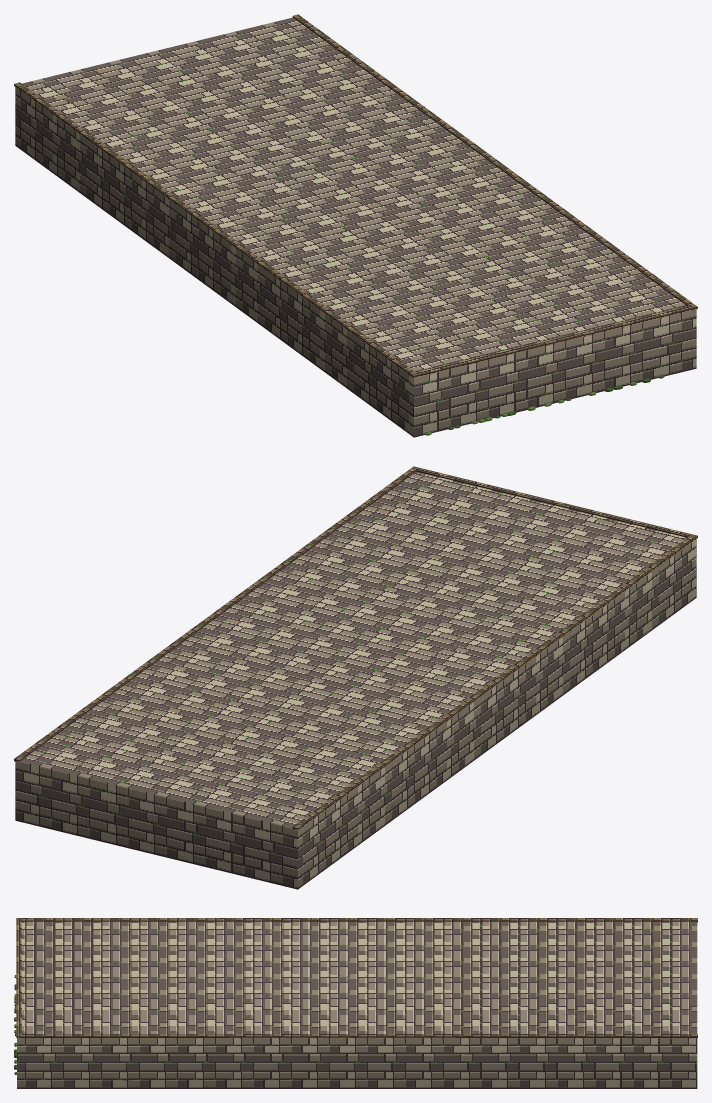
Rendered from scene_wall_w.glb.
3 views of the same model, one above another, from view 1: azimuth 30°, elevation 25°; view 2: azimuth 150°, elevation 25°; view 3: azimuth 270°, elevation 25° (orthographic). The views are drawn at different scales.
Parts seen in each view (by area): view 1: scene_wall_w; view 2: scene_wall_w; view 3: scene_wall_w.
Boxes of the visible parts, <box> form: scene_wall_w: <box>14,14,697,437</box>; scene_wall_w: <box>14,466,697,889</box>; scene_wall_w: <box>14,918,697,1088</box>.
Bounding box in the file's own units: 17.7 × 3.77 × 43.24.
2 materials, 1 textured.
